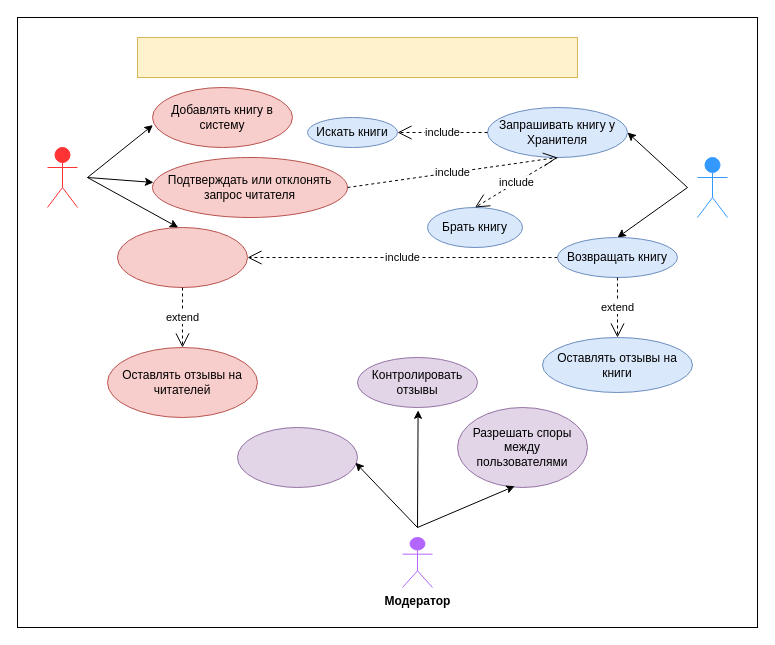
The diagram is 775 pixels wide and 645 high, and some of its shapes have lost their labels. The centre of each missing label's shape, as x and y in pixels:
"Диаграмма сценариев использования" belongs at [357,57].
"Принимать возврат книги" belongs at [182,257].
"Удалять недостоверные книги" belongs at [297,457].
"Хранитель" belongs at [62,177].
"Читатель" belongs at [712,187].
